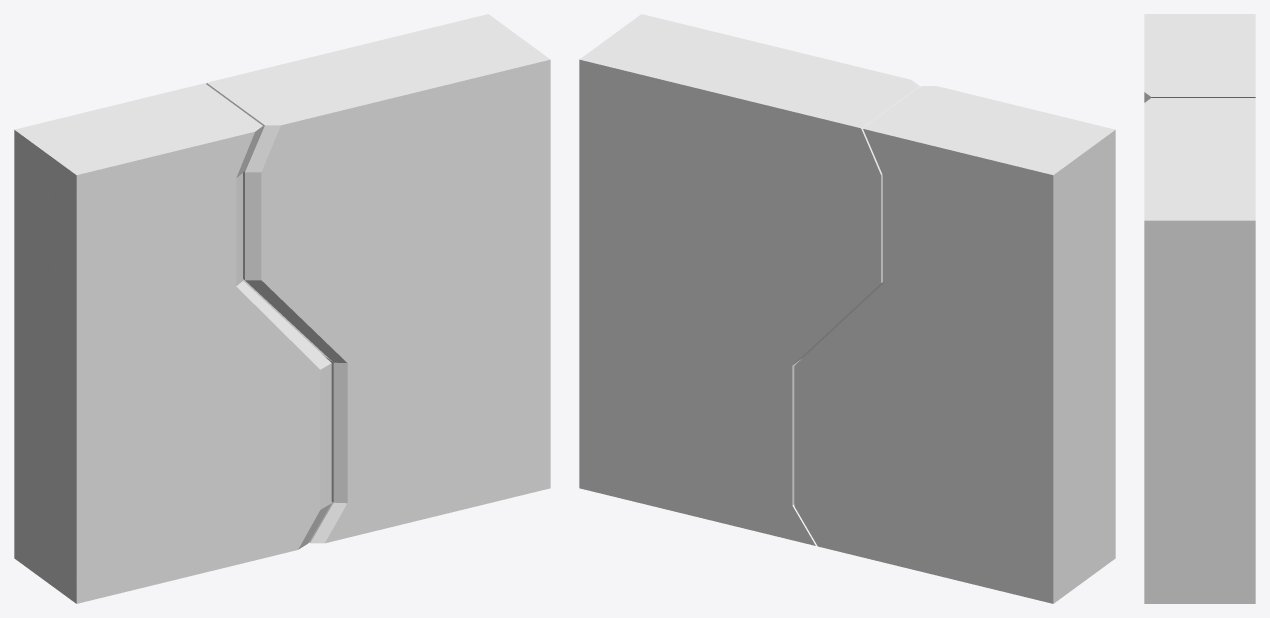
File: Doors.glb
3 renders of one model, left to right at view 1: azimuth 30°, elevation 25°; view 2: azimuth 150°, elevation 25°; view 3: azimuth 270°, elevation 25°, orthographic. The views are drawn at different scales.
Parts seen in each view (by area): view 1: Doors; view 2: Doors; view 3: Doors.
Boxes of the visible parts, x1,y1,x2,y2 form: Doors: (14, 14, 550, 603); Doors: (579, 14, 1115, 603); Doors: (1144, 14, 1255, 603).
Bounding box in the file's own units: 2.79 × 2.41 × 0.6348.
Materials: 1 (1 with a texture image).
